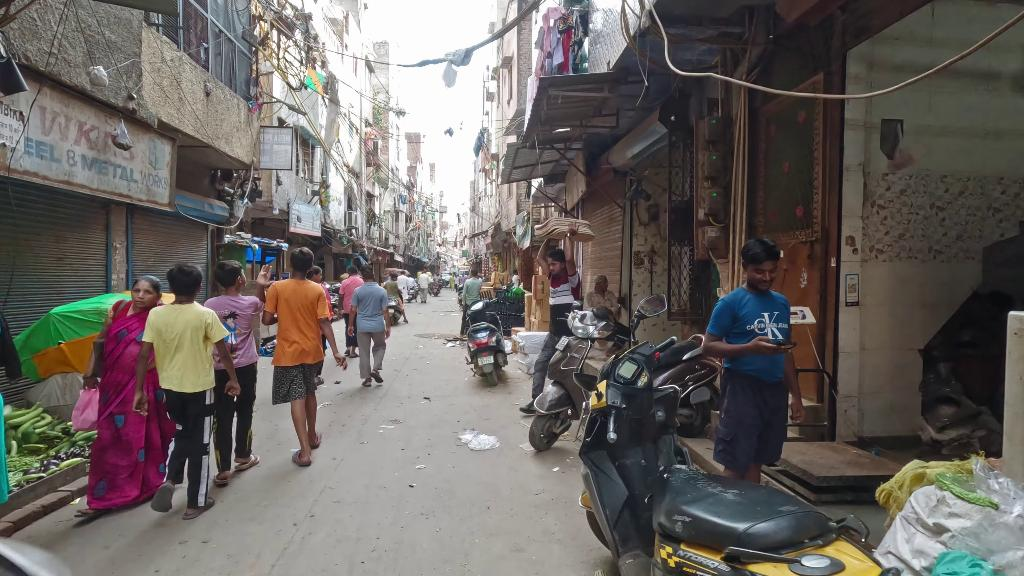garbage: (461, 428, 503, 454), (112, 119, 135, 151), (88, 66, 109, 88), (121, 92, 138, 116)
